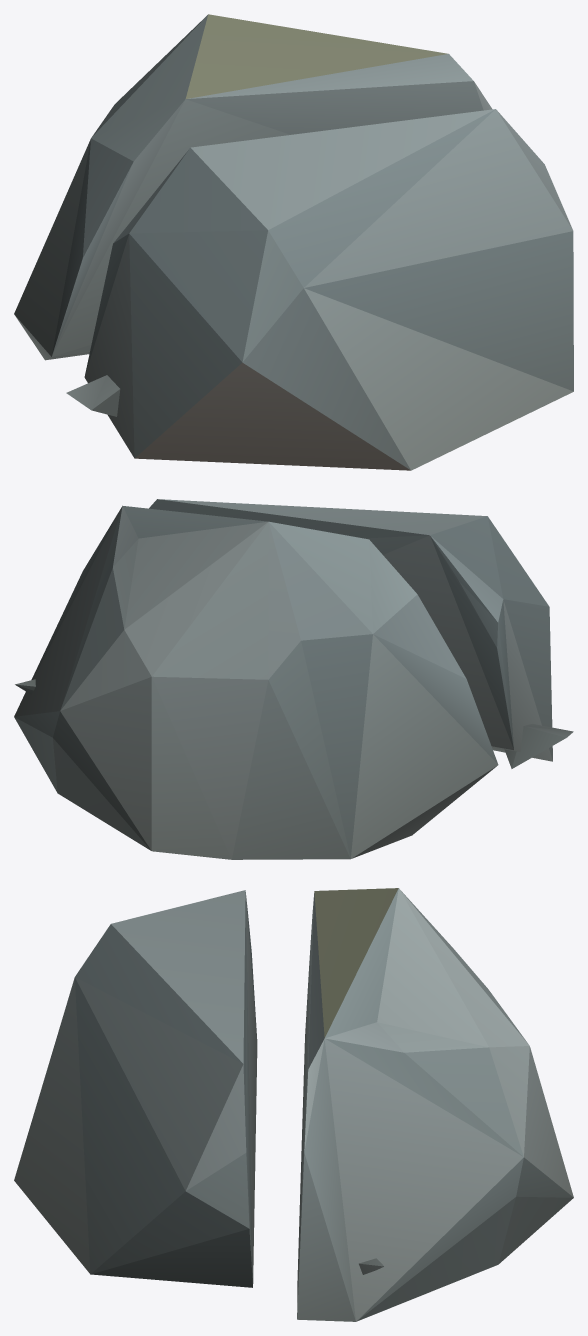
Rendered from rift_boulder.glb.
The picture shows the model from 3 angles, top to bottom: view 1: azimuth 30°, elevation 25°; view 2: azimuth 150°, elevation 25°; view 3: azimuth 270°, elevation 25°; orthographic projection. The views are drawn at different scales.
Parts seen in each view (by area): view 1: ca_rift_boulder; view 2: ca_rift_boulder; view 3: ca_rift_boulder.
Part boxes in pixels (box(x1,y1,x2,y2)): ca_rift_boulder: box(14, 14, 573, 470); ca_rift_boulder: box(14, 499, 573, 859); ca_rift_boulder: box(14, 888, 573, 1321).
Size of the model in its own units: 1.05 by 0.5683 by 0.9865.
Materials: 1 (1 with a texture image).
